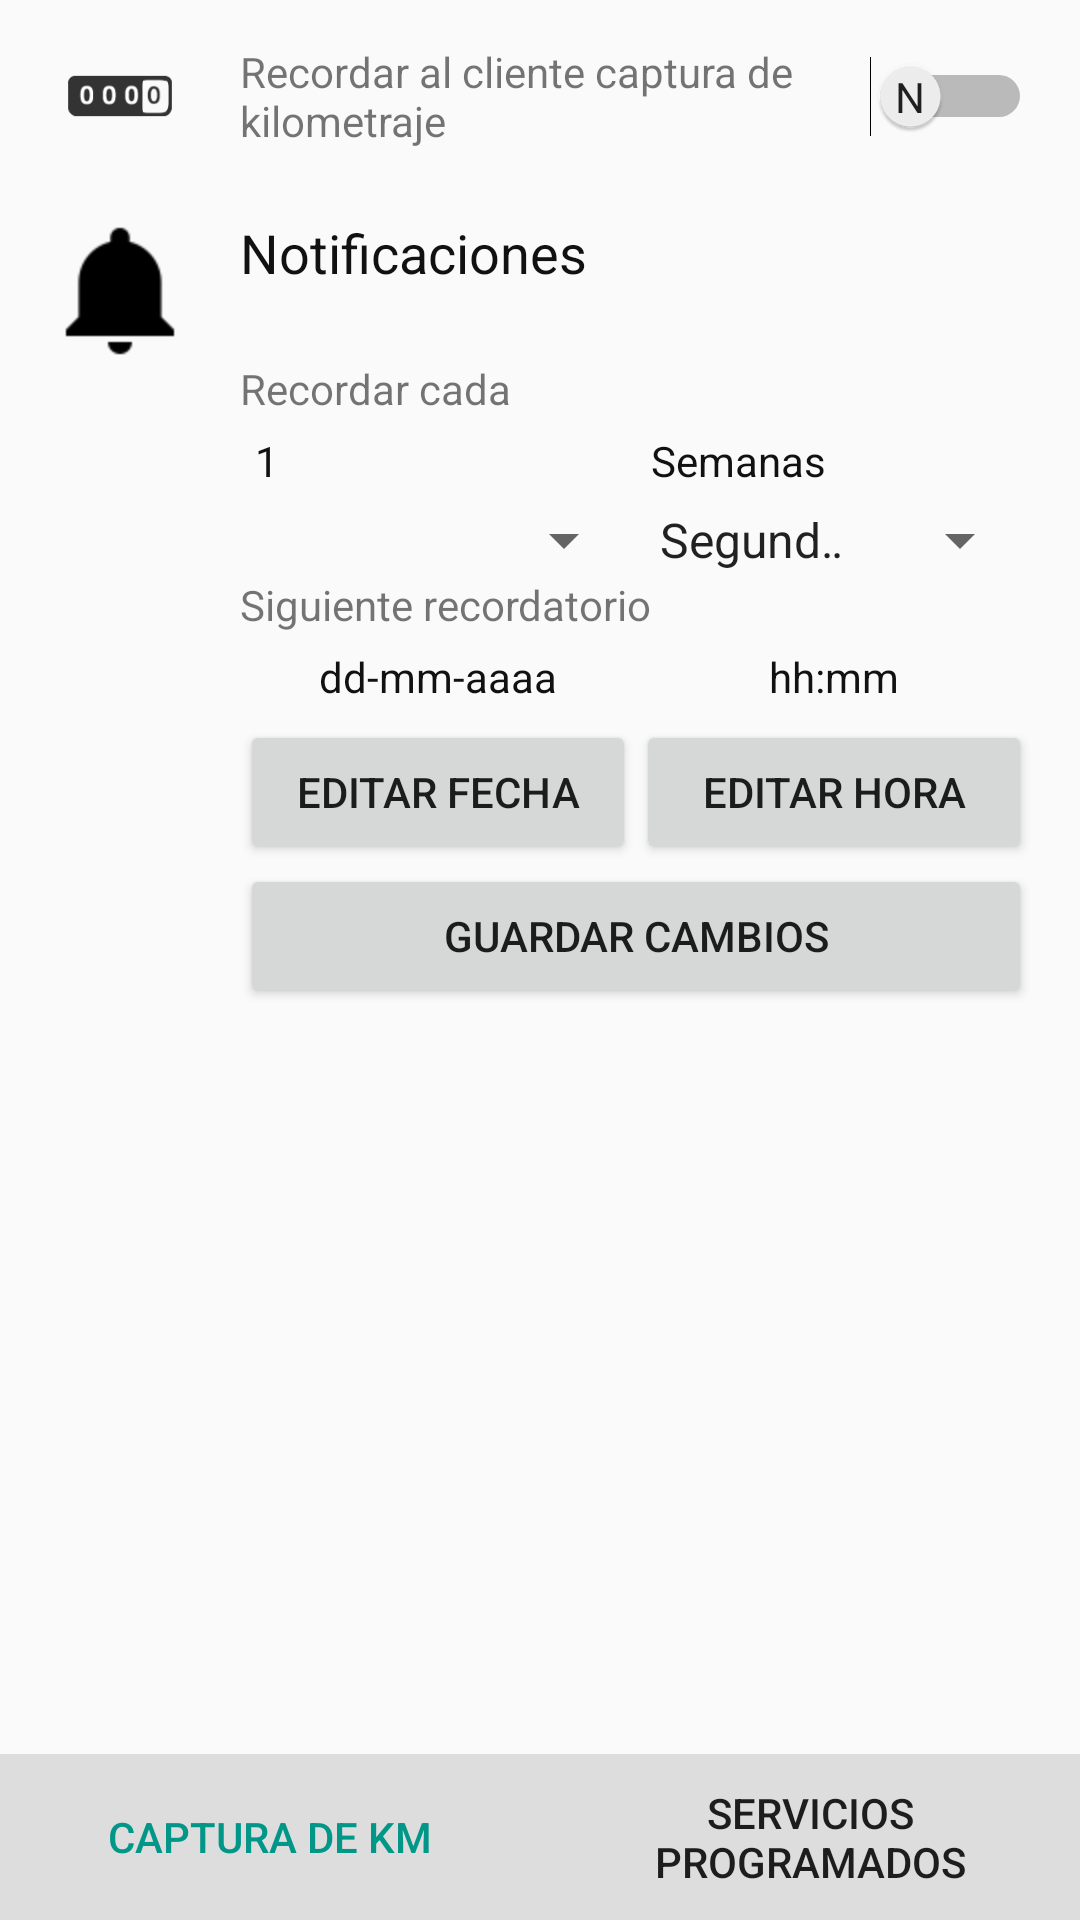

Locate icon controls on the screen. Image size 1080w x 1920h, boxes as (x1, y1, x2, y2).
alert: (65, 227, 175, 355)
odometer: (68, 75, 172, 117)
